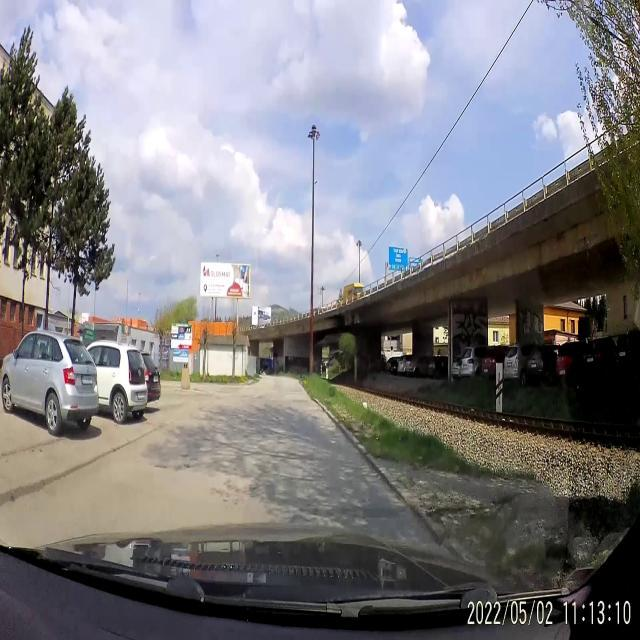Pothole: (148, 455, 196, 477)
